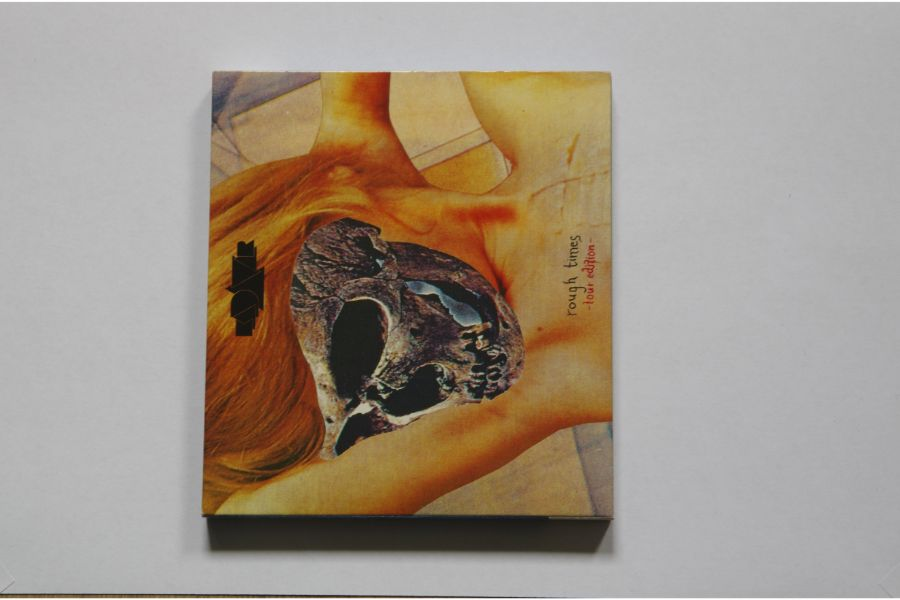album: (202, 68, 616, 523)
